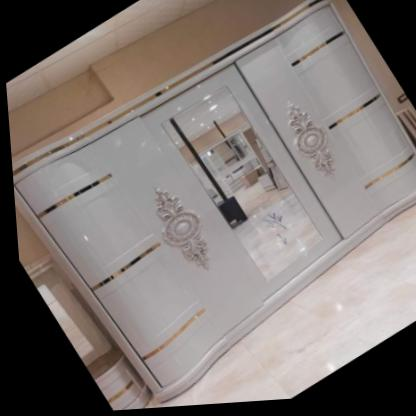Ceramic floor: (139, 207, 416, 410)
Closet: (10, 0, 416, 406)
